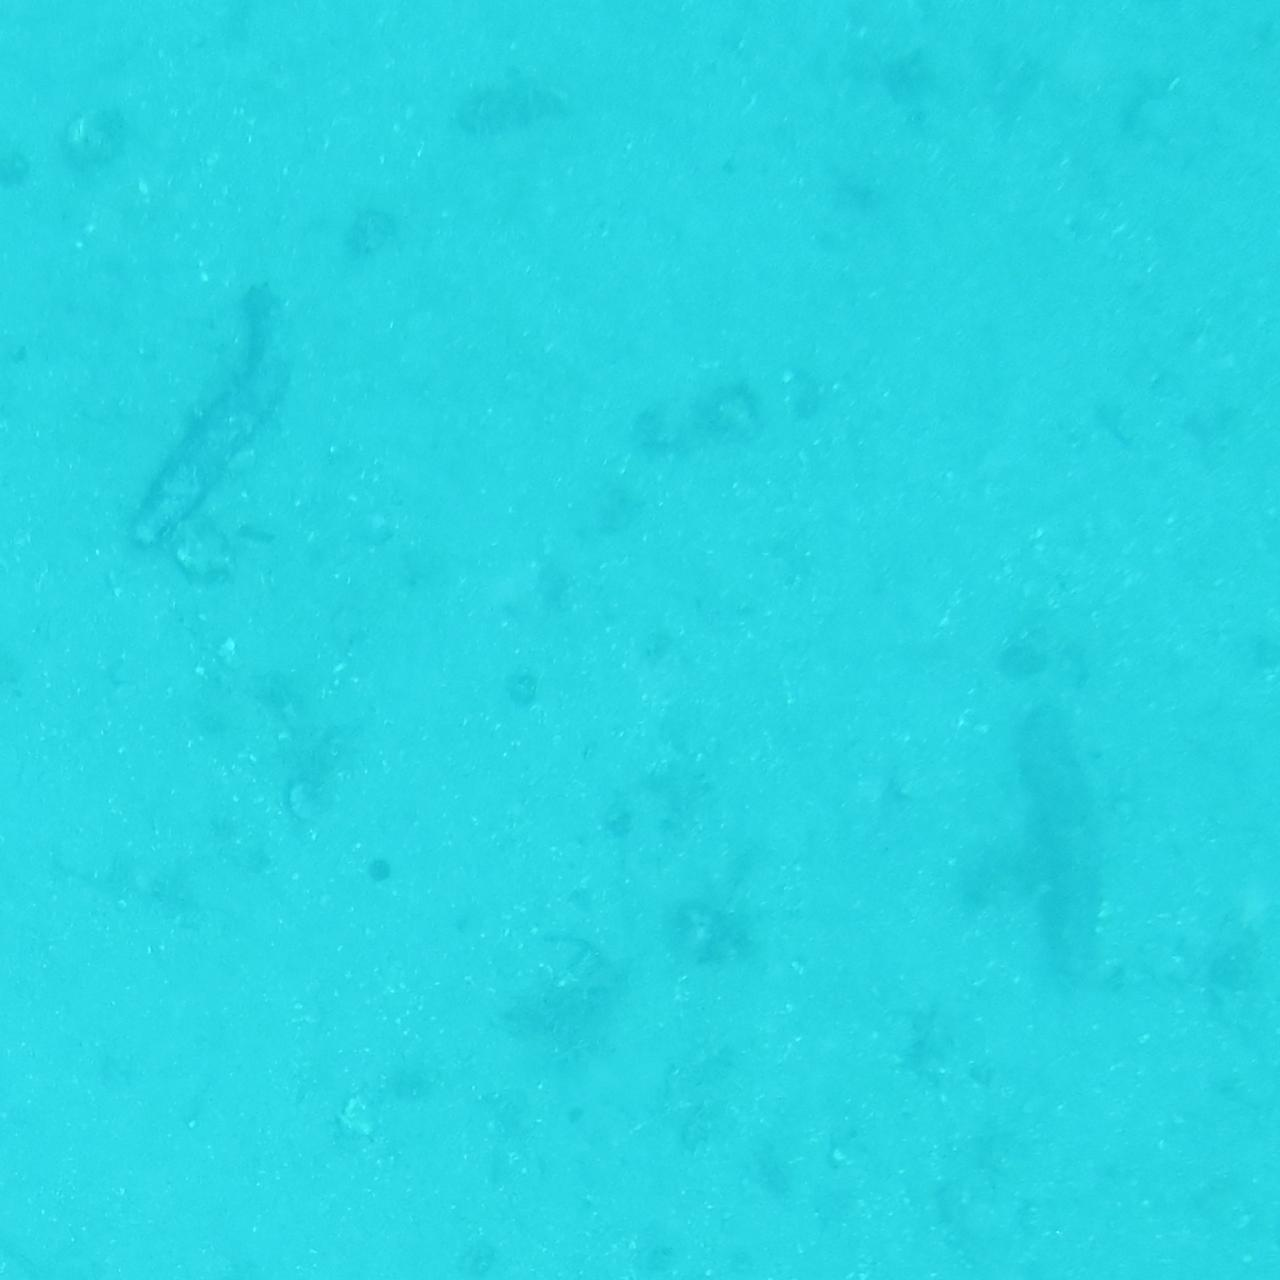Holothuria tubulosa: (125, 266, 309, 595), (1002, 697, 1124, 1001)
